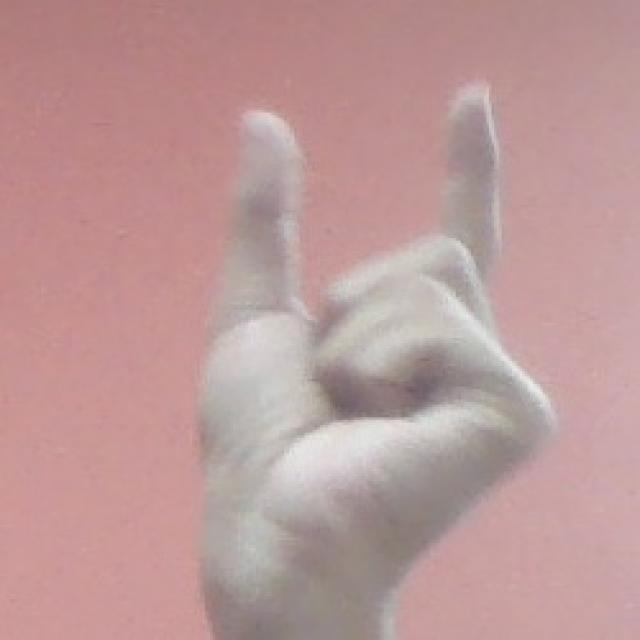Alphabet-U: (180, 73, 580, 616)
